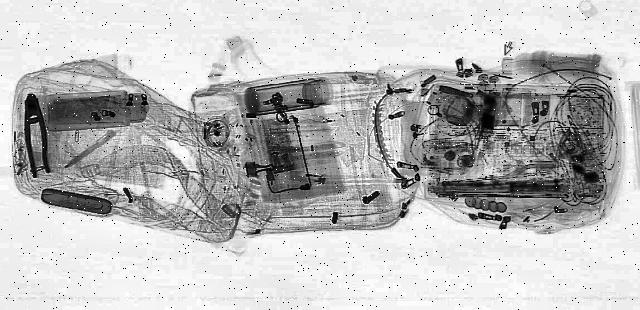Pliers: (18, 95, 54, 180)
